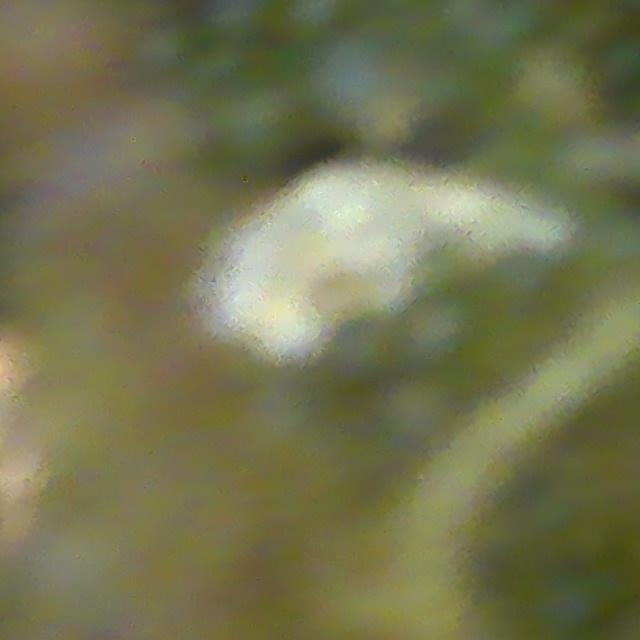SeaGrape: (301, 32, 396, 129), (208, 80, 302, 170), (405, 292, 482, 366), (327, 316, 398, 387)
